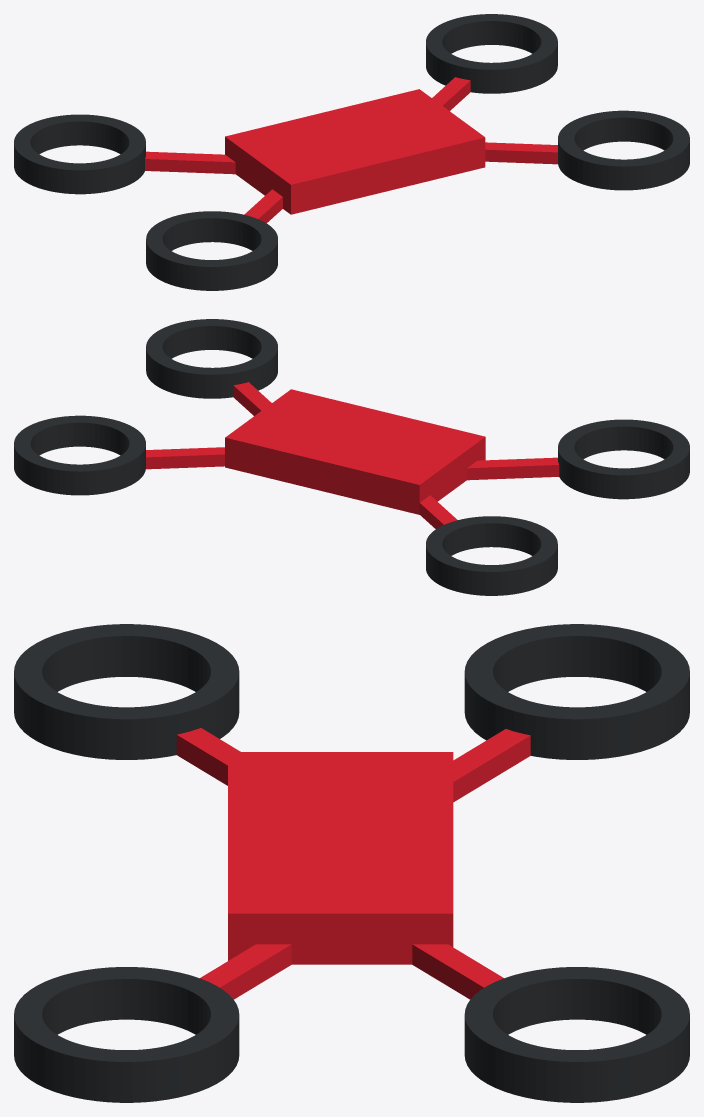
Rendered from tinker.obj.
3 renders of one model, top to bottom at view 1: azimuth 30°, elevation 25°; view 2: azimuth 150°, elevation 25°; view 3: azimuth 270°, elevation 25°, orthographic. The views are drawn at different scales.
Parts seen in each view (by area): view 1: group_0_2829873, group_0_15277357; view 2: group_0_2829873, group_0_15277357; view 3: group_0_2829873, group_0_15277357.
Part boxes in pixels (x1=…): group_0_2829873: x1=14, y1=14, x2=689, y2=290; group_0_15277357: x1=145, y1=77, x2=557, y2=223; group_0_2829873: x1=14, y1=319, x2=689, y2=595; group_0_15277357: x1=146, y1=382, x2=559, y2=528; group_0_2829873: x1=14, y1=624, x2=689, y2=1102; group_0_15277357: x1=176, y1=728, x2=530, y2=999.
Size of the model in its own units: 91.97 by 5 by 60.
